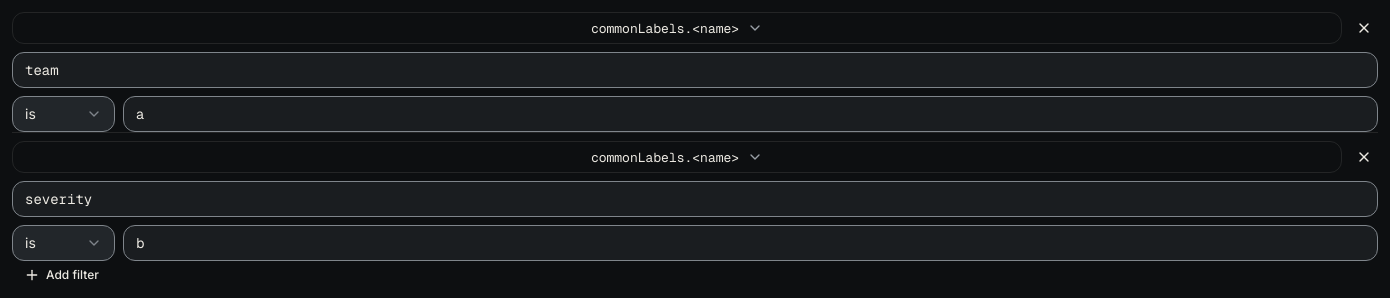
Test: FilterRowsEditor › keeps each row's typed name when a row above is removed
Click the button named "Remove filter 1".
click(1364, 28)  # box [1350, 14, 1378, 42]
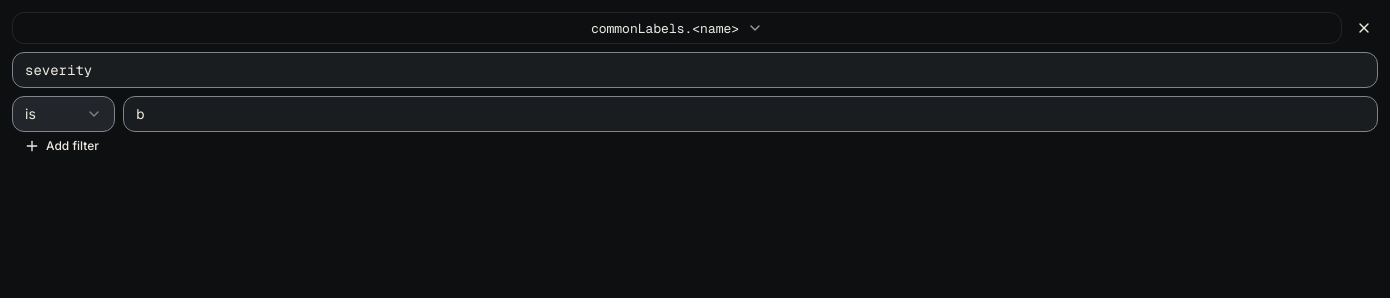
Expected: the field named "Filter 1 name" holds "severity", [12, 52, 1378, 88]
